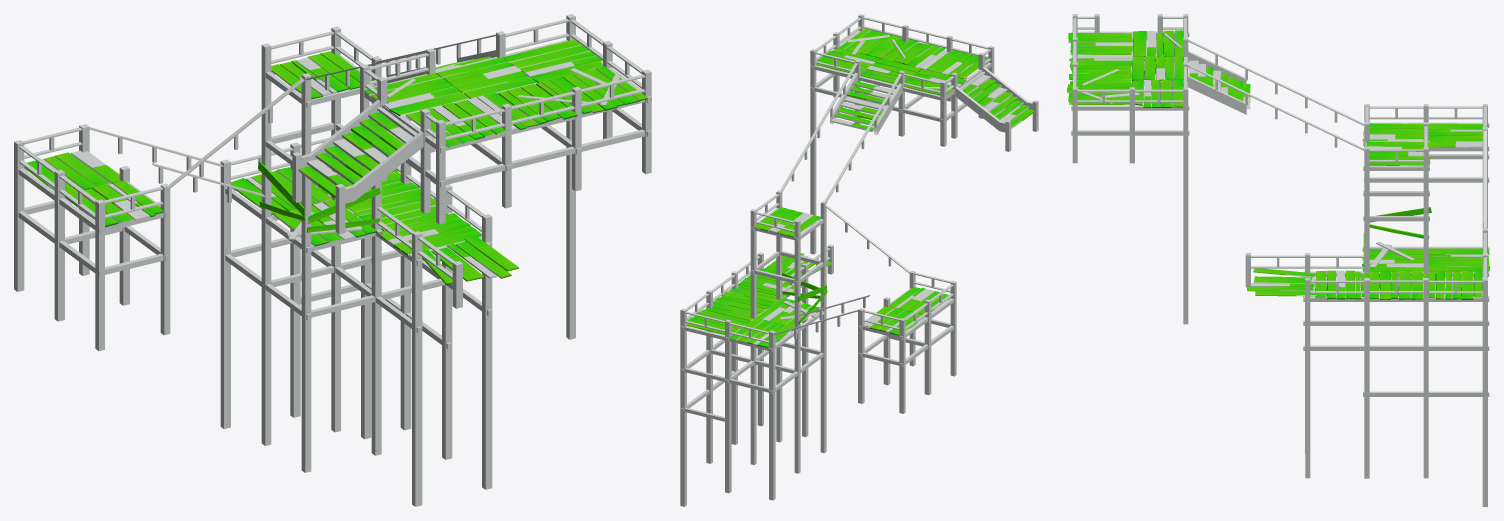
3 views of the same model, side by side, from view 1: azimuth 30°, elevation 25°; view 2: azimuth 150°, elevation 25°; view 3: azimuth 270°, elevation 25° (orthographic). The views are drawn at different scales.
Parts seen in each view (by area): view 1: G:\FFXIV-MapTools\exports\f1f1\bg\ffxiv\fst_f1\fld\f1f1\bgpa (×2); view 2: G:\FFXIV-MapTools\exports\f1f1\bg\ffxiv\fst_f1\fld\f1f1\bgpa (×2); view 3: G:\FFXIV-MapTools\exports\f1f1\bg\ffxiv\fst_f1\fld\f1f1\bgpa (×2).
Boxes of the visible parts, box(x1,y1,x2,y2) form: G:\FFXIV-MapTools\exports\f1f1\bg\ffxiv\fst_f1\fld\f1f1\bgpa (×2): box(14, 14, 651, 506); G:\FFXIV-MapTools\exports\f1f1\bg\ffxiv\fst_f1\fld\f1f1\bgpa (×2): box(680, 14, 1038, 506); G:\FFXIV-MapTools\exports\f1f1\bg\ffxiv\fst_f1\fld\f1f1\bgpa (×2): box(1067, 14, 1489, 506).
Size of the model in its own units: 20.29 by 31.12 by 28.61.
